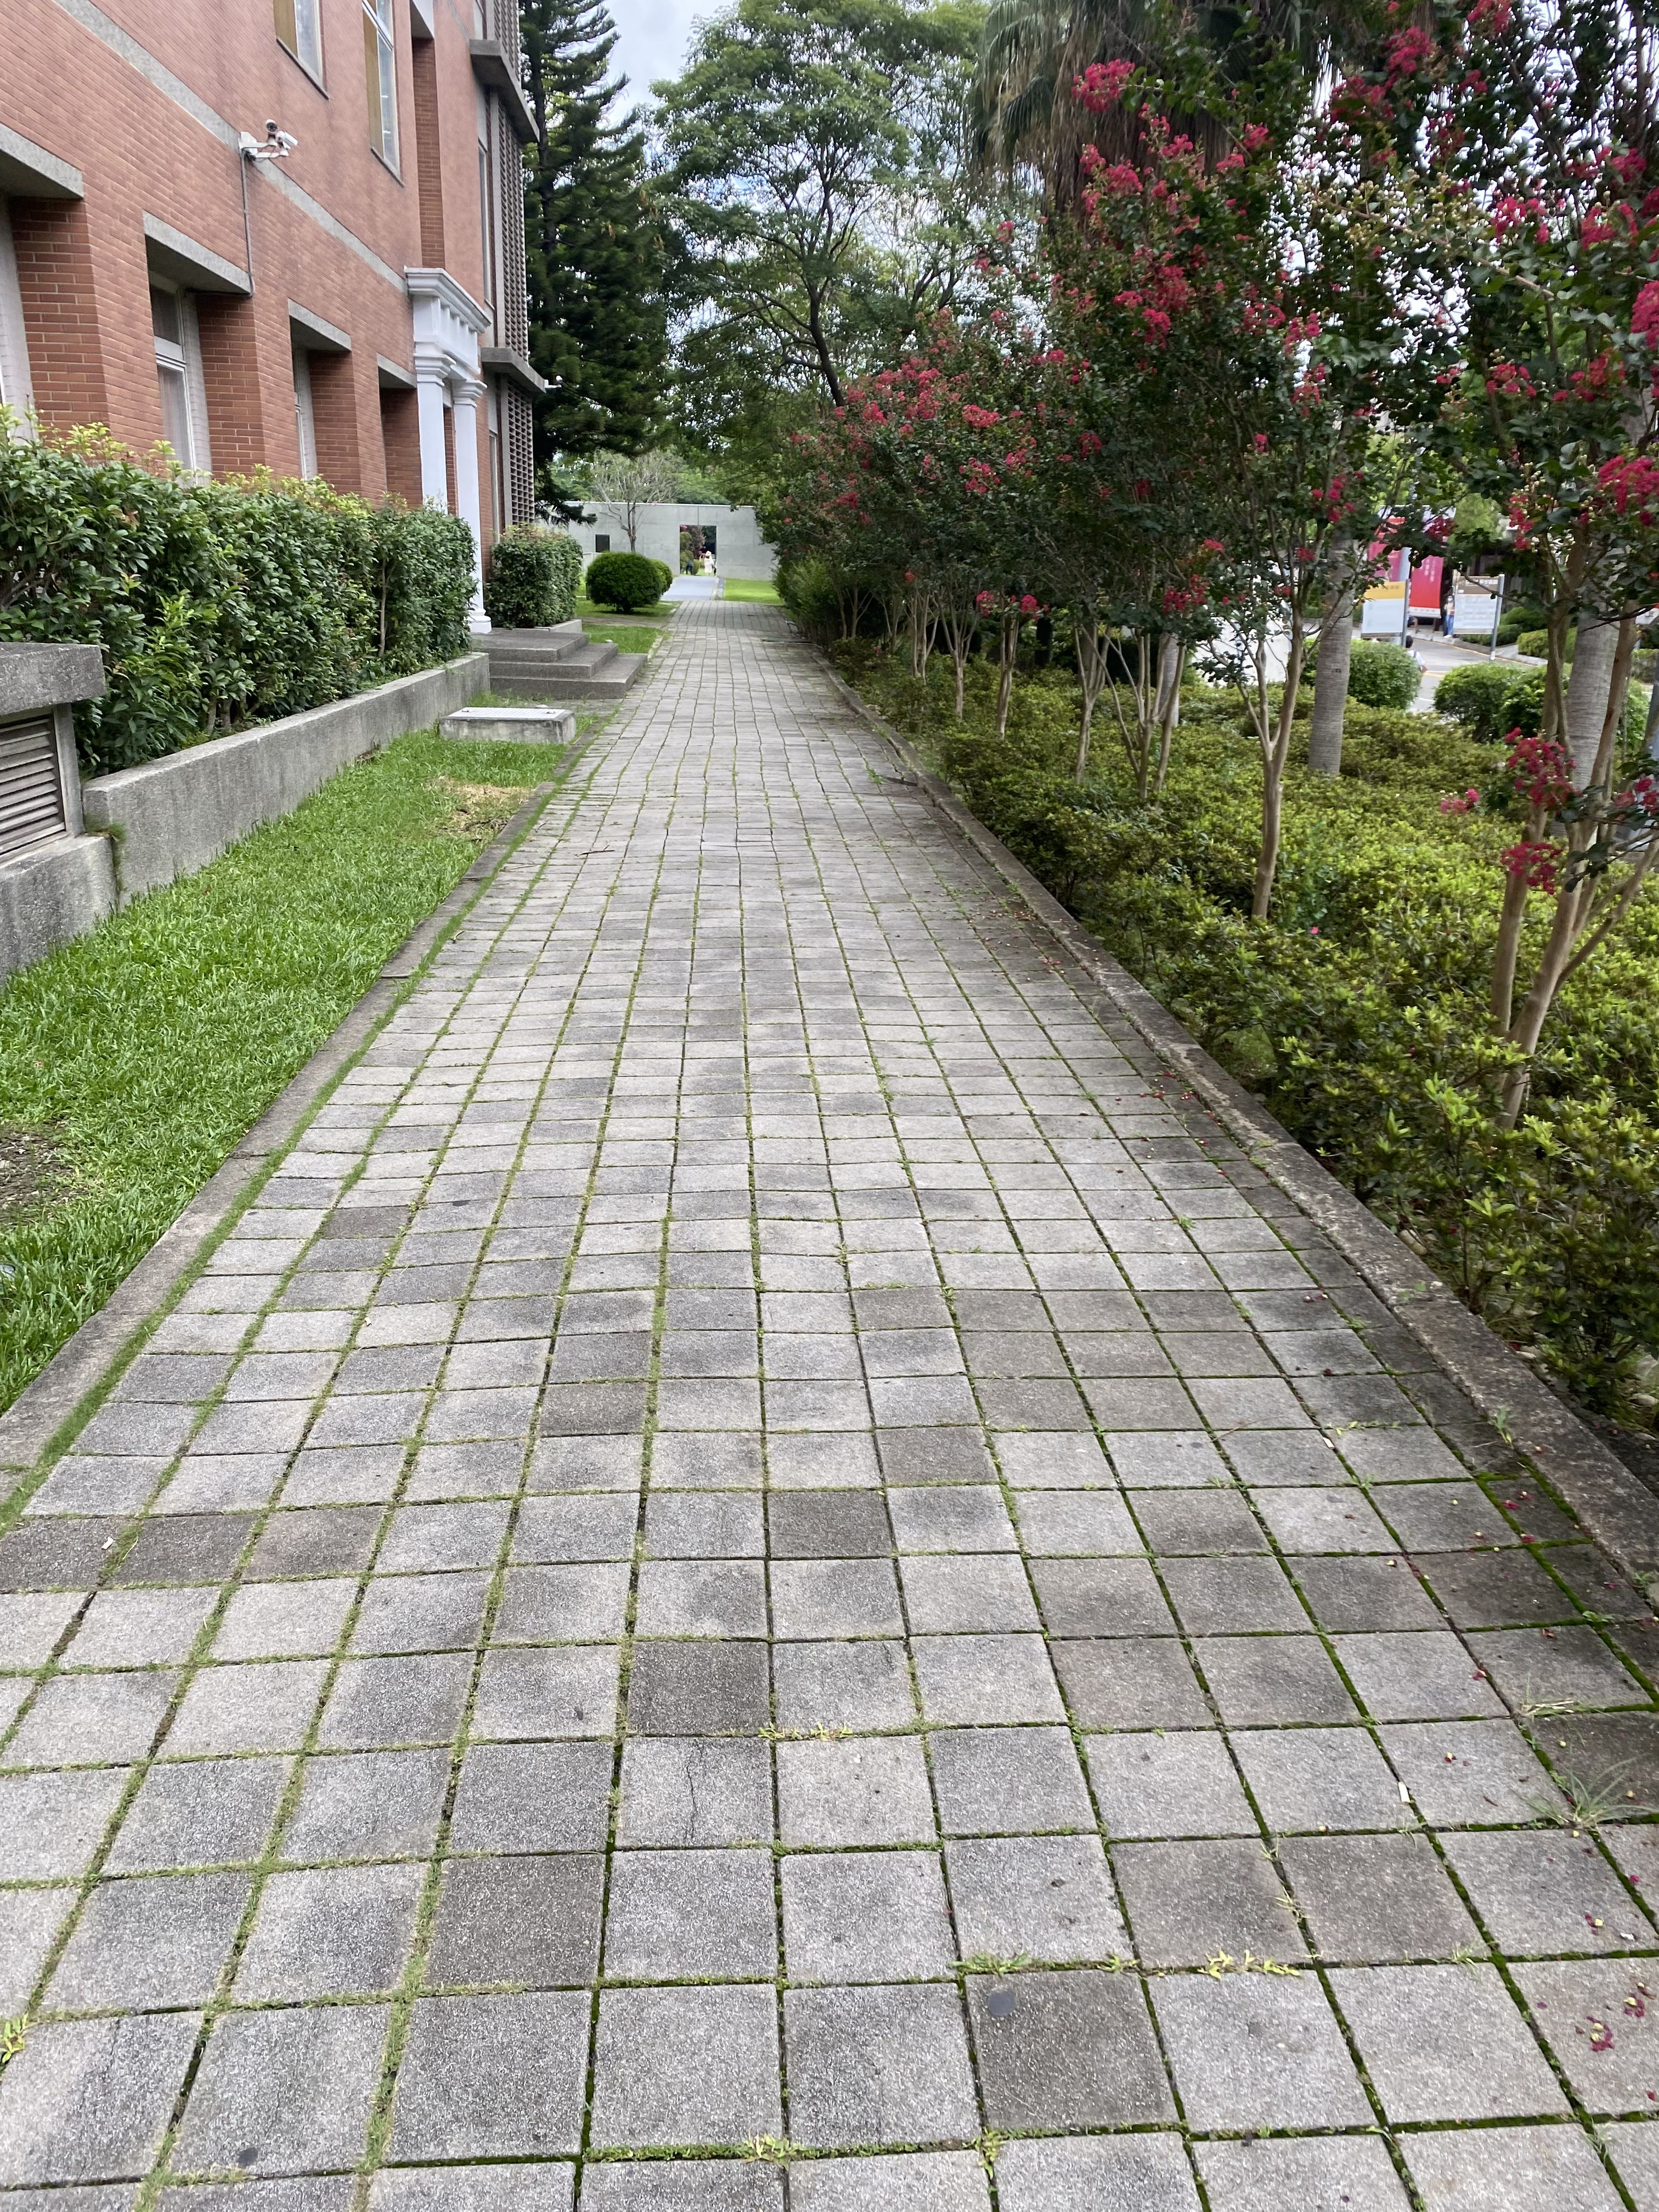0: (10, 894, 718, 2212)
sidewalk: (460, 559, 1659, 2212)
